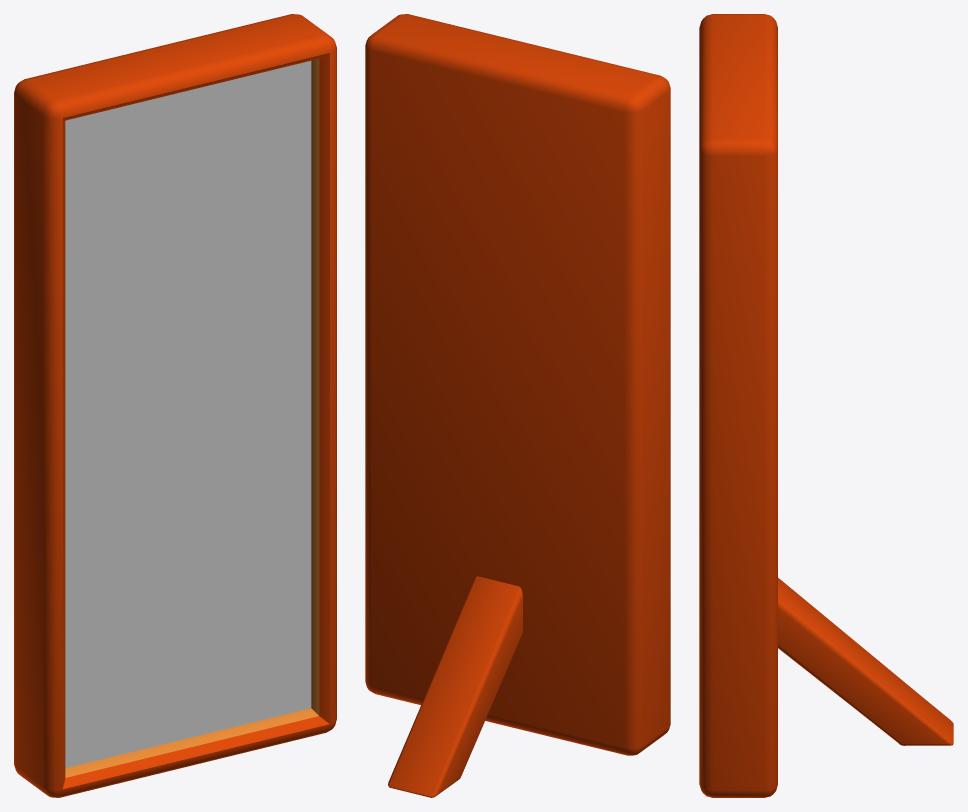
Rendered from Mirror_4C.fbx.
The picture shows the model from 3 angles, left to right: view 1: azimuth 30°, elevation 25°; view 2: azimuth 150°, elevation 25°; view 3: azimuth 270°, elevation 25°; orthographic projection. The views are drawn at different scales.
Visible parts, largest first — view 1: Mirror_4C; view 2: Mirror_4C; view 3: Mirror_4C.
Boxes of the visible parts, x1,y1,x2,y2 form: Mirror_4C: [14, 14, 336, 797]; Mirror_4C: [365, 14, 670, 797]; Mirror_4C: [699, 14, 953, 797].
Size of the model in its own units: 0.532 by 1.21 by 0.4244.
